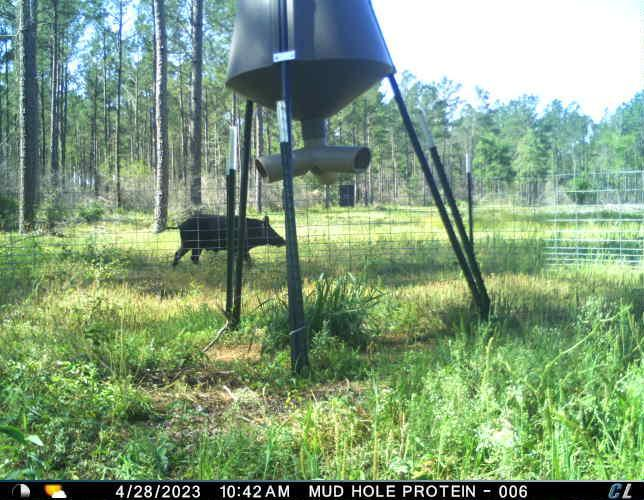Hog: (153, 211, 287, 268)
